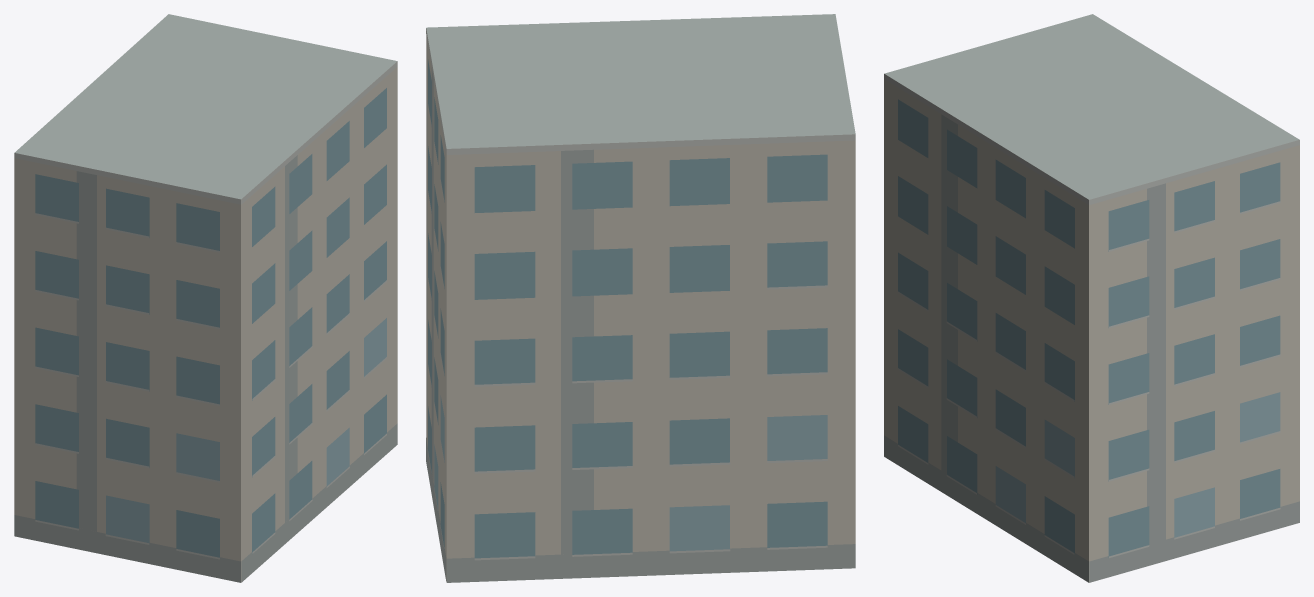
Rendered from survey-upis-32883421.glb.
3 renders of one model, left to right at view 1: azimuth 30°, elevation 25°; view 2: azimuth 150°, elevation 25°; view 3: azimuth 270°, elevation 25°, orthographic. The views are drawn at different scales.
Parts seen in each view (by area): view 1: survey-upis-32883421.tmp; view 2: survey-upis-32883421.tmp; view 3: survey-upis-32883421.tmp.
Part boxes in pixels (left/top/right/bottom): survey-upis-32883421.tmp: left=14, top=14, right=397, bottom=582; survey-upis-32883421.tmp: left=426, top=14, right=855, bottom=582; survey-upis-32883421.tmp: left=884, top=14, right=1299, bottom=582.
Size of the model in its own units: 18.12 by 17.4 by 17.13.
